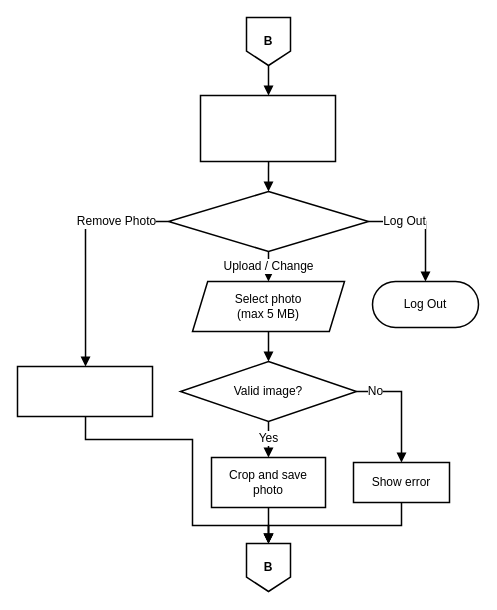
The diagram is 497 pixels wide and 610 high, and some of its shapes have lost their labels. Each missing label, with the box of its shape:
Confirm & remove photo: (16, 365, 153, 417)
Select action?: (167, 190, 369, 252)
View read-only profile & Access note: (199, 94, 336, 162)
